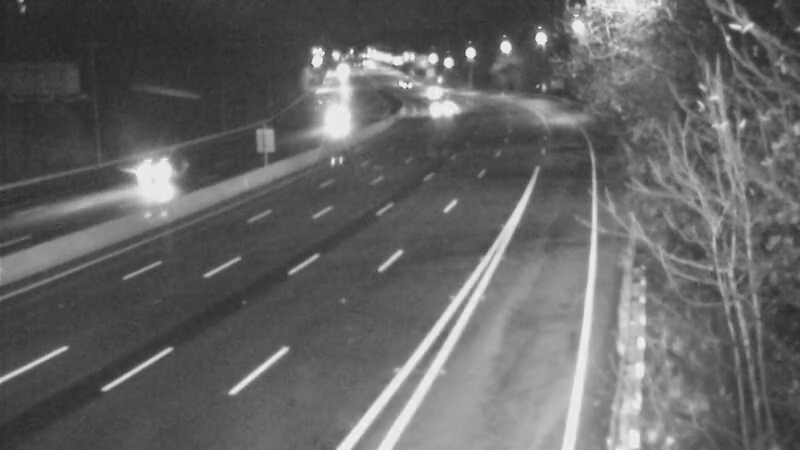vehicle: (117, 136, 197, 216), (380, 55, 430, 105), (401, 64, 451, 114), (417, 81, 467, 131), (308, 97, 358, 147)
